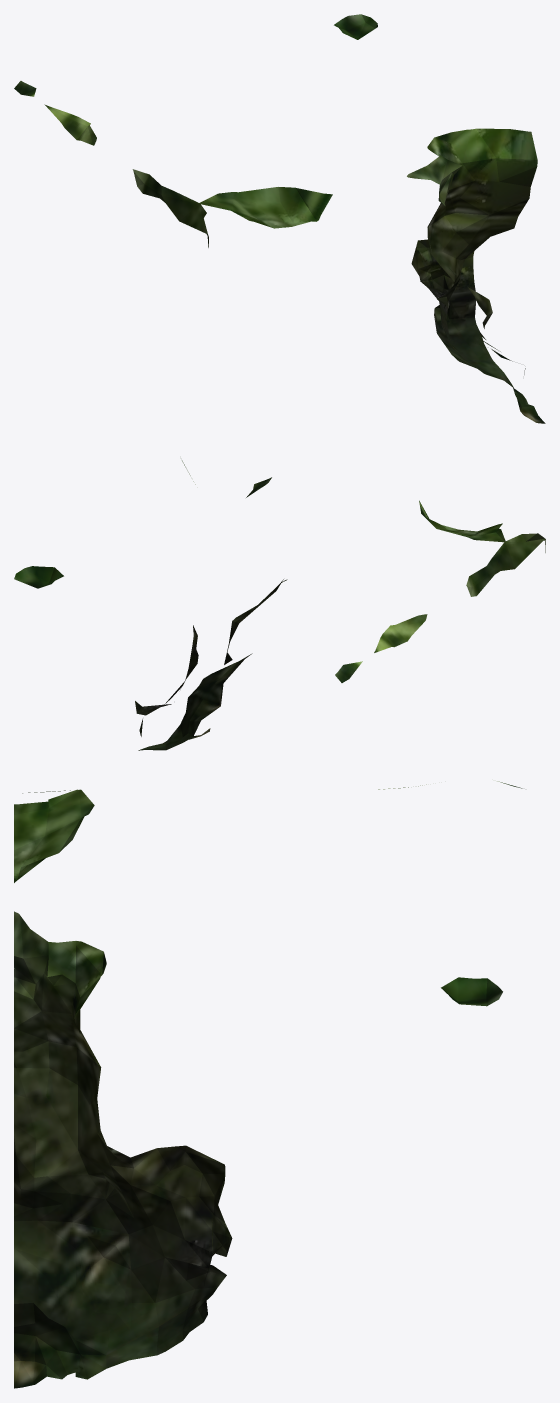
The picture shows the model from 3 angles, top to bottom: view 1: azimuth 30°, elevation 25°; view 2: azimuth 150°, elevation 25°; view 3: azimuth 270°, elevation 25°; orthographic projection. The views are drawn at different scales.
Bounding box in the file's own units: 0.8374 × 0.6675 × 0.8373.
Materials: 2 (2 with a texture image).
